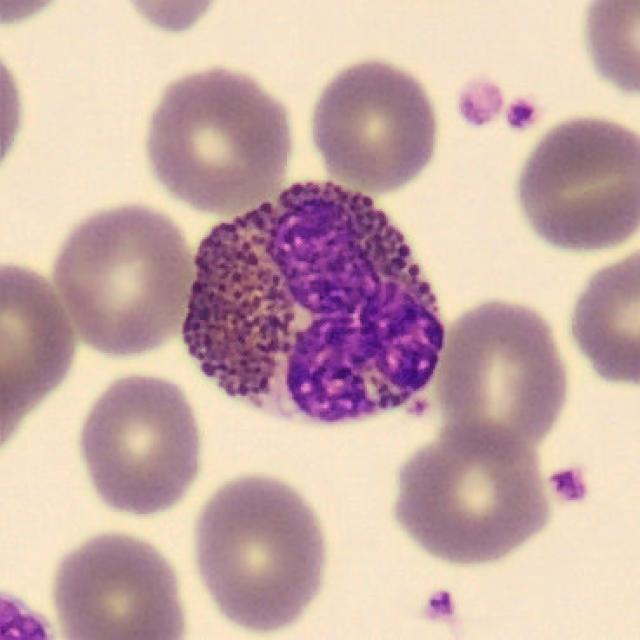Eosinofilo: (183, 183, 445, 426)
